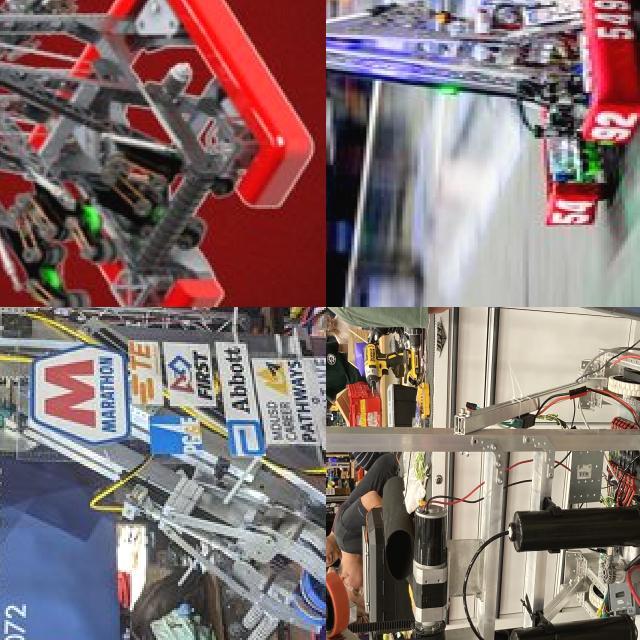FRC-Robots: (0, 307, 326, 640), (326, 307, 640, 640), (0, 0, 316, 307), (326, 0, 640, 232)
